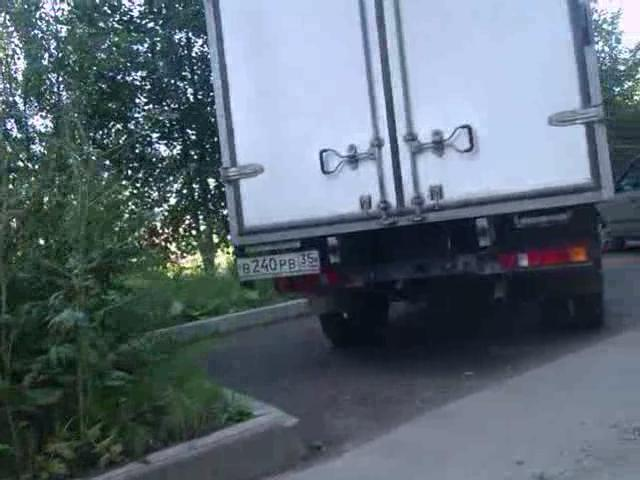car license plate: (235, 250, 321, 284)
